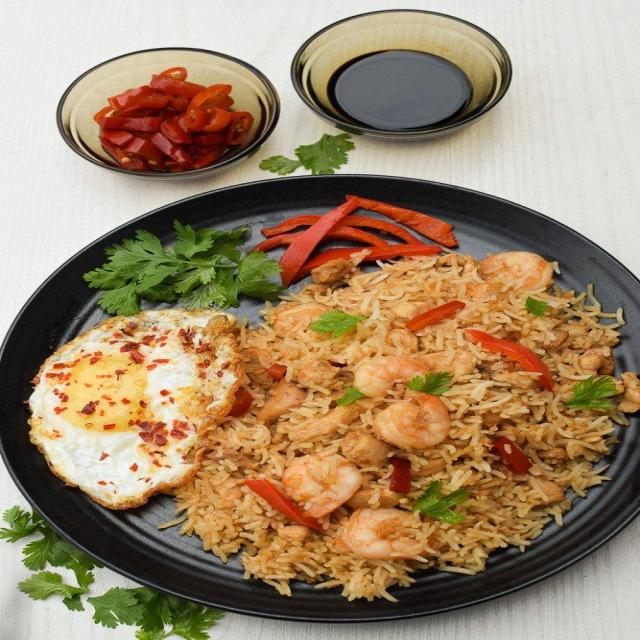Nasi Goreng: (149, 236, 602, 570)
